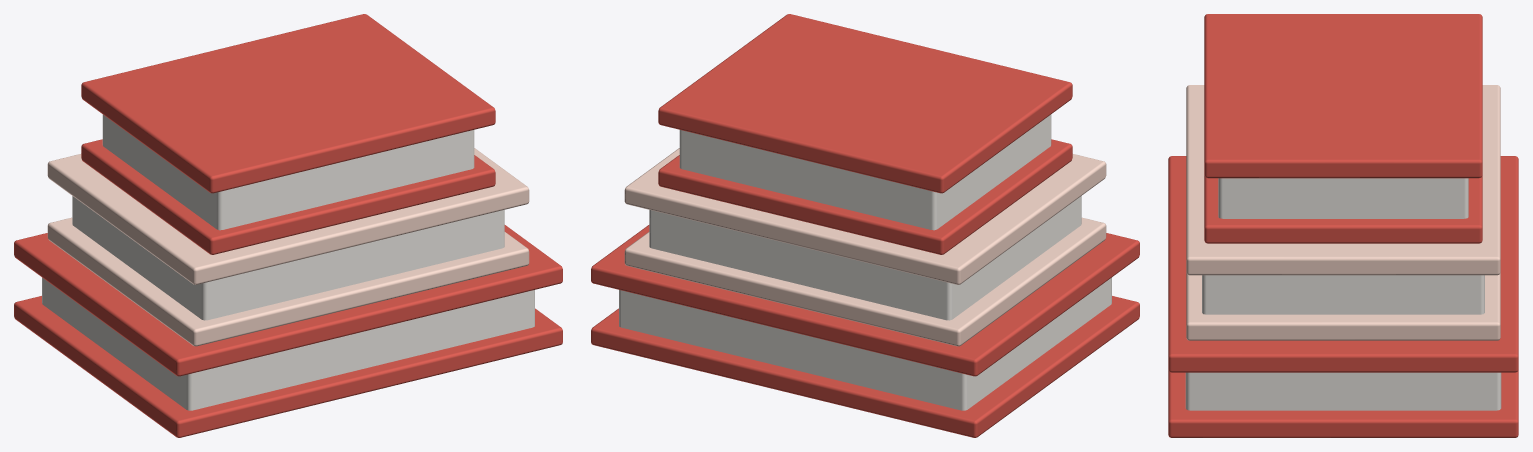
File: school-book-stack.glb
3 views of the same model, side by side, from view 1: azimuth 30°, elevation 25°; view 2: azimuth 150°, elevation 25°; view 3: azimuth 270°, elevation 25° (orthographic). The views are drawn at different scales.
Parts seen in each view (by area): view 1: cover-top-2, cover-top-0, pages-0, pages-1, cover-bottom-0, cover-top-1, pages-2, cover-bottom-1, cover-bottom-2; view 2: cover-top-2, cover-top-0, pages-0, pages-1, cover-bottom-0, cover-top-1, pages-2, cover-bottom-1, cover-bottom-2; view 3: cover-top-2, cover-top-0, cover-top-1, pages-0, pages-1, cover-bottom-0, pages-2, cover-bottom-1, cover-bottom-2.
Part boxes in pixels (<box>): cover-top-2: <box>81,14,495,193</box>; cover-top-0: <box>14,225,562,376</box>; pages-0: <box>42,277,534,410</box>; pages-1: <box>72,196,504,320</box>; cover-bottom-0: <box>14,296,562,437</box>; cover-top-1: <box>47,148,529,284</box>; pages-2: <box>102,114,474,230</box>; cover-bottom-1: <box>47,217,529,346</box>; cover-bottom-2: <box>81,139,495,254</box>; cover-top-2: <box>658,14,1072,193</box>; cover-top-0: <box>591,225,1139,376</box>; pages-0: <box>619,277,1111,410</box>; pages-1: <box>649,196,1081,320</box>; cover-bottom-0: <box>591,296,1139,437</box>; cover-top-1: <box>624,148,1106,284</box>; pages-2: <box>679,114,1051,230</box>; cover-bottom-1: <box>624,217,1106,346</box>; cover-bottom-2: <box>658,139,1072,254</box>; cover-top-2: <box>1204,14,1482,178</box>; cover-top-0: <box>1168,156,1518,372</box>; cover-top-1: <box>1186,85,1500,275</box>; pages-0: <box>1185,372,1501,410</box>; pages-1: <box>1202,275,1484,314</box>; cover-bottom-0: <box>1168,370,1518,437</box>; pages-2: <box>1218,178,1468,218</box>; cover-bottom-1: <box>1186,273,1500,340</box>; cover-bottom-2: <box>1204,175,1482,243</box>.
Bounding box in the file's own units: 0.92 × 0.54 × 0.68.
